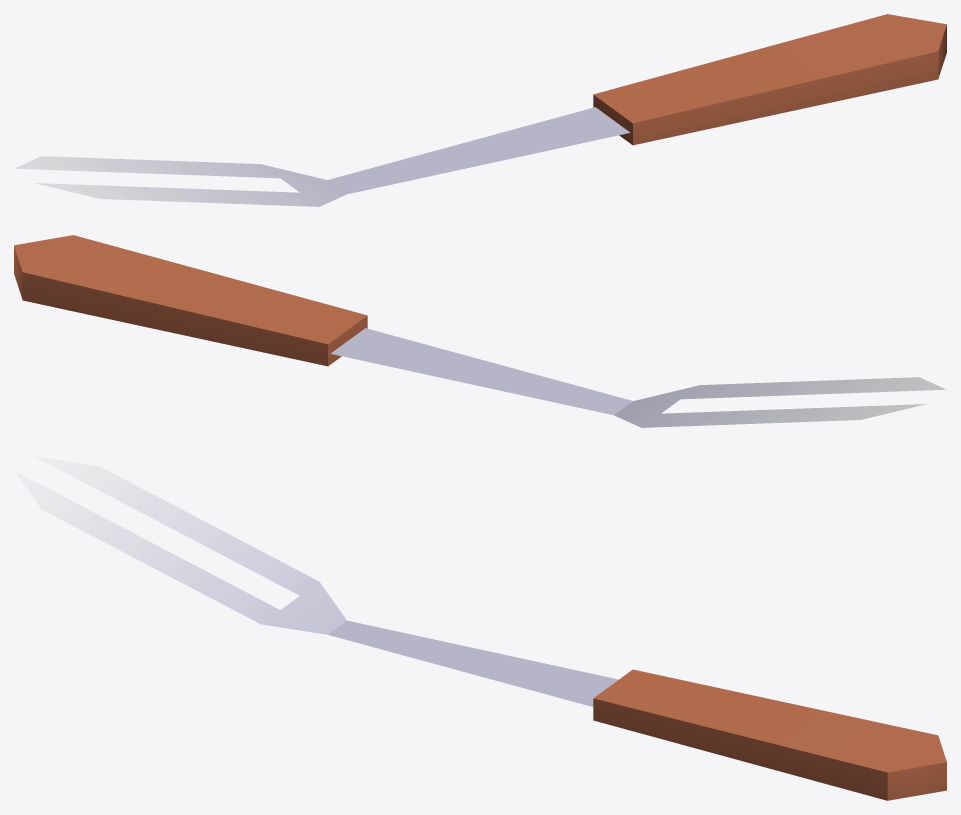
File: cooking-fork.glb
3 views of the same model, one above another, from view 1: azimuth 30°, elevation 25°; view 2: azimuth 150°, elevation 25°; view 3: azimuth 330°, elevation 25° (orthographic).
Parts seen in each view (by area): view 1: cooking-fork; view 2: cooking-fork; view 3: cooking-fork.
Part boxes in pixels (box(x1,y1,x2,y2)): cooking-fork: box(14, 14, 946, 206); cooking-fork: box(14, 235, 946, 427); cooking-fork: box(14, 456, 946, 800).
Bounding box in the file's own units: 0.6827 × 0.0721 × 0.0749.
Materials: 1 (1 with a texture image).
